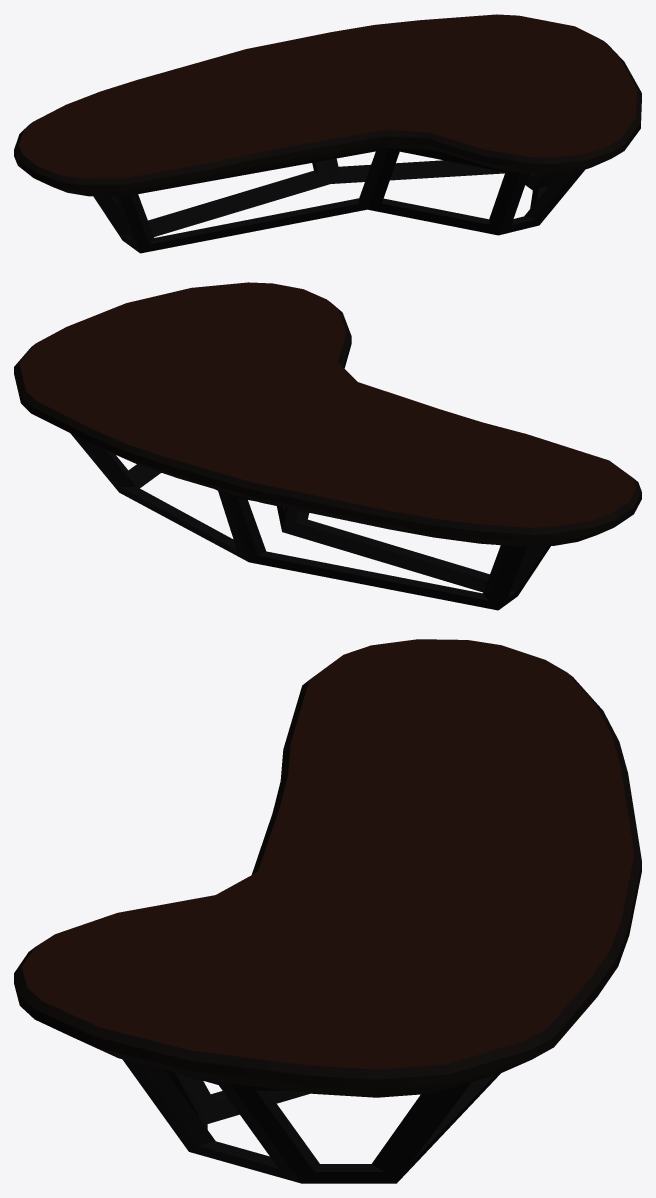
The model's file is h-005_table_01_F.FBX.
The picture shows the model from 3 angles, top to bottom: view 1: azimuth 30°, elevation 25°; view 2: azimuth 150°, elevation 25°; view 3: azimuth 270°, elevation 25°; orthographic projection. The views are drawn at different scales.
Parts seen in each view (by area): view 1: h-005_table_01; view 2: h-005_table_01; view 3: h-005_table_01.
Part boxes in pixels (bbox=[...]): h-005_table_01: bbox=[14, 14, 641, 253]; h-005_table_01: bbox=[14, 282, 641, 610]; h-005_table_01: bbox=[14, 639, 641, 1183].
Size of the model in its own units: 27.38 by 5.2 by 16.63.
